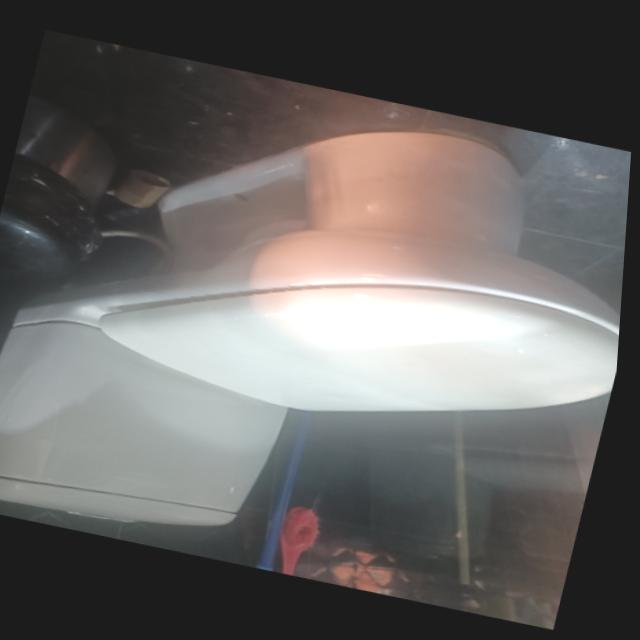toilet: (0, 53, 637, 614)
